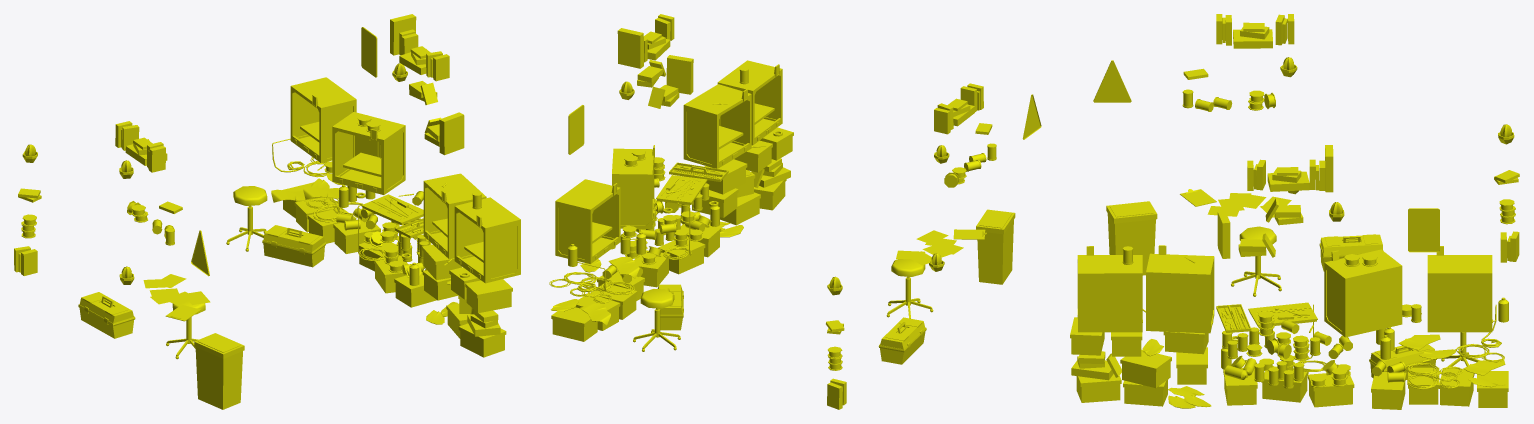
The picture shows the model from 3 angles, left to right: view 1: azimuth 30°, elevation 25°; view 2: azimuth 150°, elevation 25°; view 3: azimuth 270°, elevation 25°; orthographic projection. The views are drawn at different scales.
Visible parts, largest first — view 1: ASSETS1; view 2: ASSETS1; view 3: ASSETS1.
Part boxes in pixels (box(x1,y1,x2,y2)): ASSETS1: box(14, 14, 520, 409); ASSETS1: box(549, 14, 1041, 409); ASSETS1: box(1070, 14, 1519, 409).
Size of the model in its own units: 5.51 by 4.13 by 6.37.
